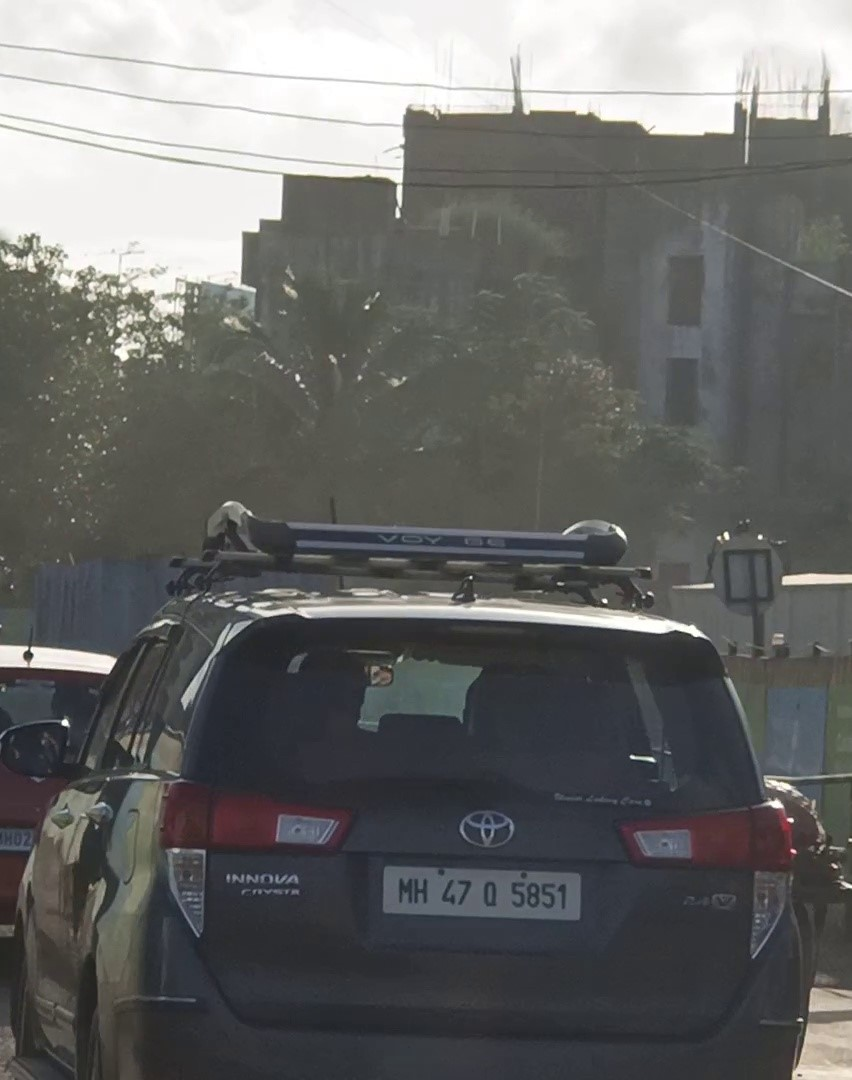MH4705851: (381, 864, 583, 923)
